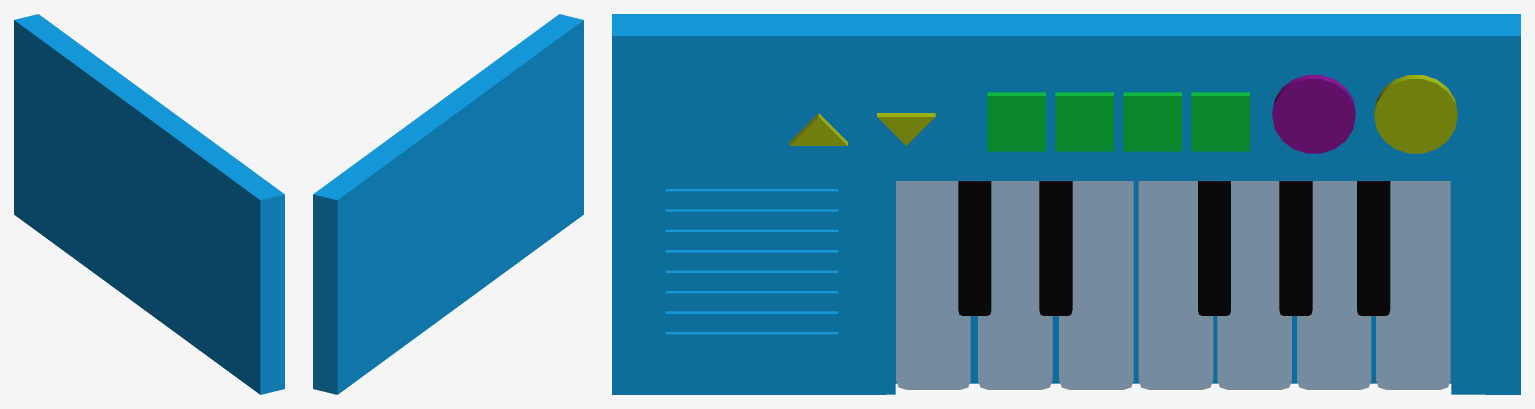
File: Keyboard.FBX
3 views of the same model, side by side, from view 1: azimuth 30°, elevation 25°; view 2: azimuth 150°, elevation 25°; view 3: azimuth 270°, elevation 25° (orthographic). The views are drawn at different scales.
Visible parts, largest first — view 1: Box001; view 2: Box001; view 3: Box001.
Part boxes in pixels (bbox=[...]): Box001: bbox=[14, 14, 284, 394]; Box001: bbox=[313, 14, 583, 394]; Box001: bbox=[612, 14, 1520, 394].
Size of the model in its own units: 2.53 by 16.14 by 37.04.
